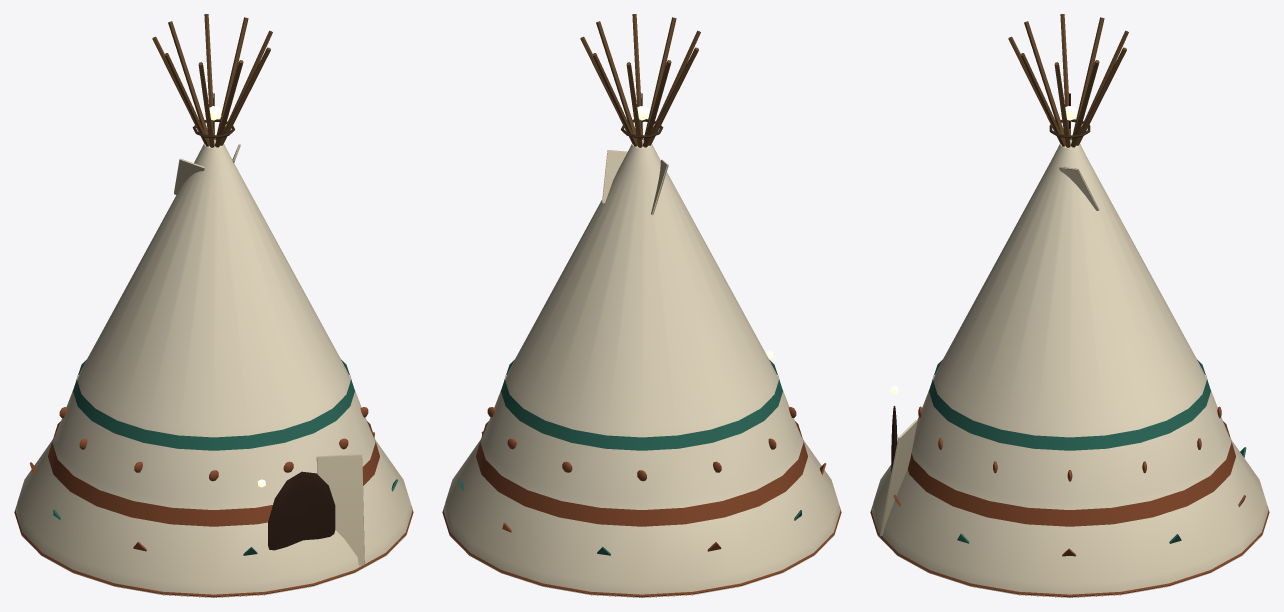
The model's file is tipi.glb.
3 views of the same model, side by side, from view 1: azimuth 30°, elevation 25°; view 2: azimuth 150°, elevation 25°; view 3: azimuth 270°, elevation 25° (orthographic).
Parts seen in each view (by area): view 1: canvas, band1, band2, door, door_flap, hem, pole_0, pole_5, pole_7; view 2: canvas, band1, band2, hem, pole_6, flap_1, pole_2, pole_4; view 3: canvas, band1, band2, hem, door_flap, pole_3, pole_8, pole_1.
Part boxes in pixels (<box>): canvas: <box>15,140,412,597</box>; band1: <box>48,421,379,526</box>; band2: <box>73,359,354,450</box>; door: <box>268,471,335,550</box>; door_flap: <box>316,454,364,565</box>; hem: <box>14,506,413,597</box>; pole_0: <box>168,21,208,140</box>; pole_5: <box>220,47,270,145</box>; pole_7: <box>215,17,248,140</box>; canvas: <box>443,140,840,597</box>; band1: <box>476,421,807,526</box>; band2: <box>501,359,782,450</box>; hem: <box>442,506,841,597</box>; pole_6: <box>596,21,636,140</box>; flap_1: <box>602,150,627,203</box>; pole_2: <box>648,47,698,145</box>; pole_4: <box>643,17,676,140</box>; canvas: <box>871,140,1268,597</box>; band1: <box>908,421,1235,526</box>; band2: <box>929,359,1210,450</box>; hem: <box>870,506,1269,597</box>; door_flap: <box>879,420,917,536</box>; pole_3: <box>1024,21,1064,140</box>; pole_8: <box>1076,47,1126,145</box>; pole_1: <box>1071,17,1104,140</box>.
Bounding box in the file's own units: 5.21 × 6.87 × 5.21.
